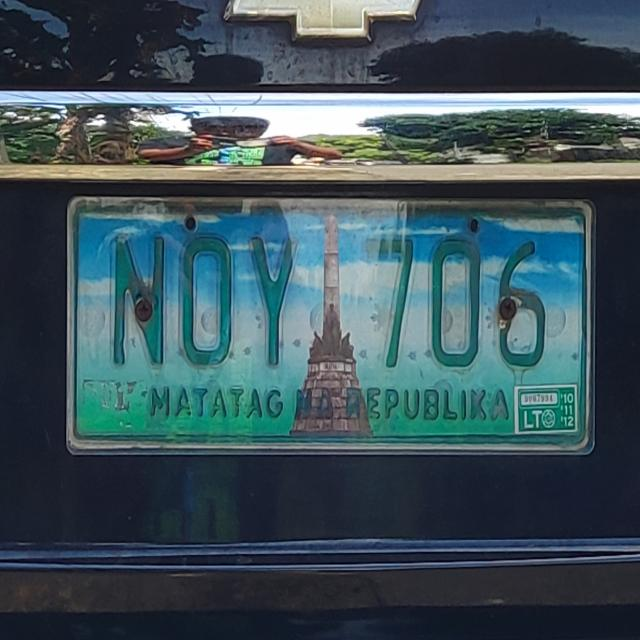plate: (62, 190, 600, 460)
